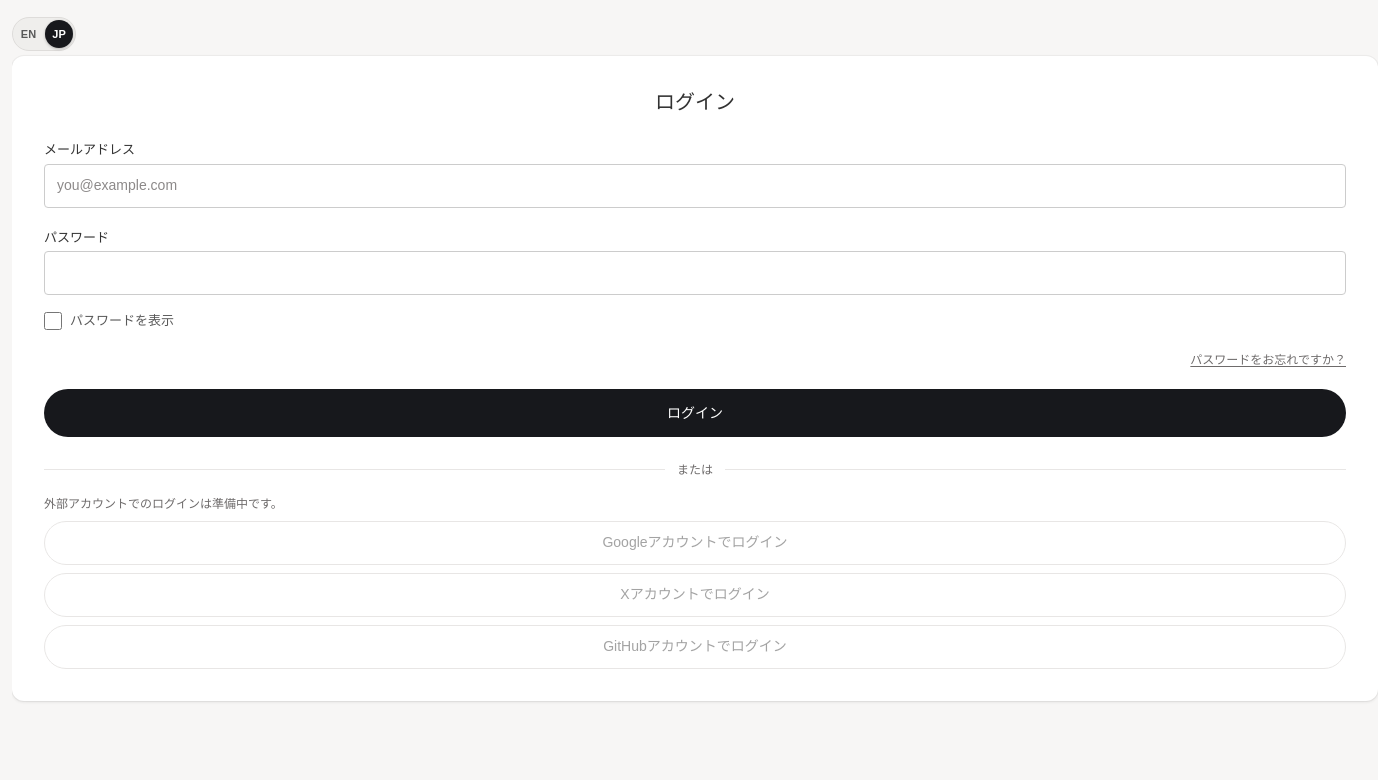
Scenario: does not navigate after missing token
The image size is (1378, 780).
Type "test@example.com" into the field labelled "メールアドレス" at (695,186), box [44, 164, 1346, 208]
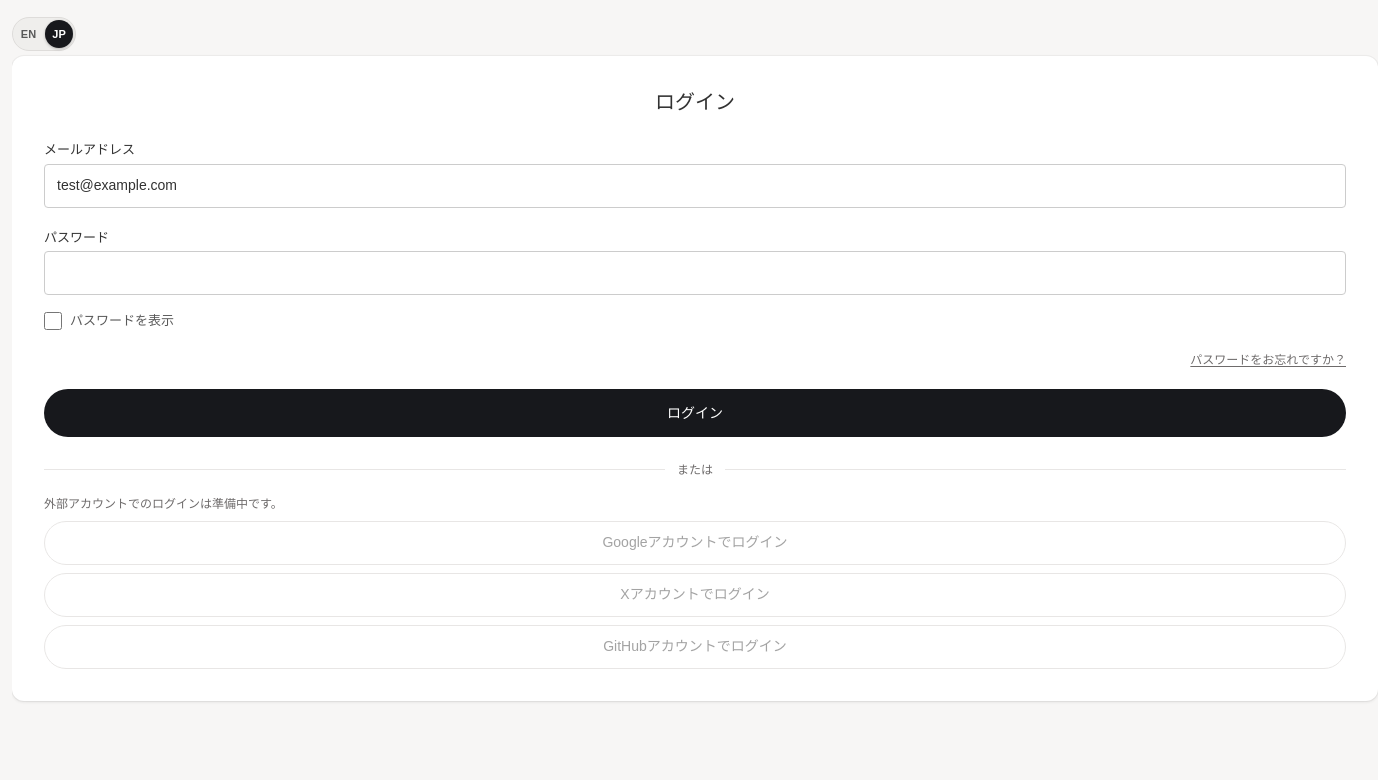
Type "Password1!" into the password field labelled "パスワード" at (695,273), box [44, 251, 1346, 295]
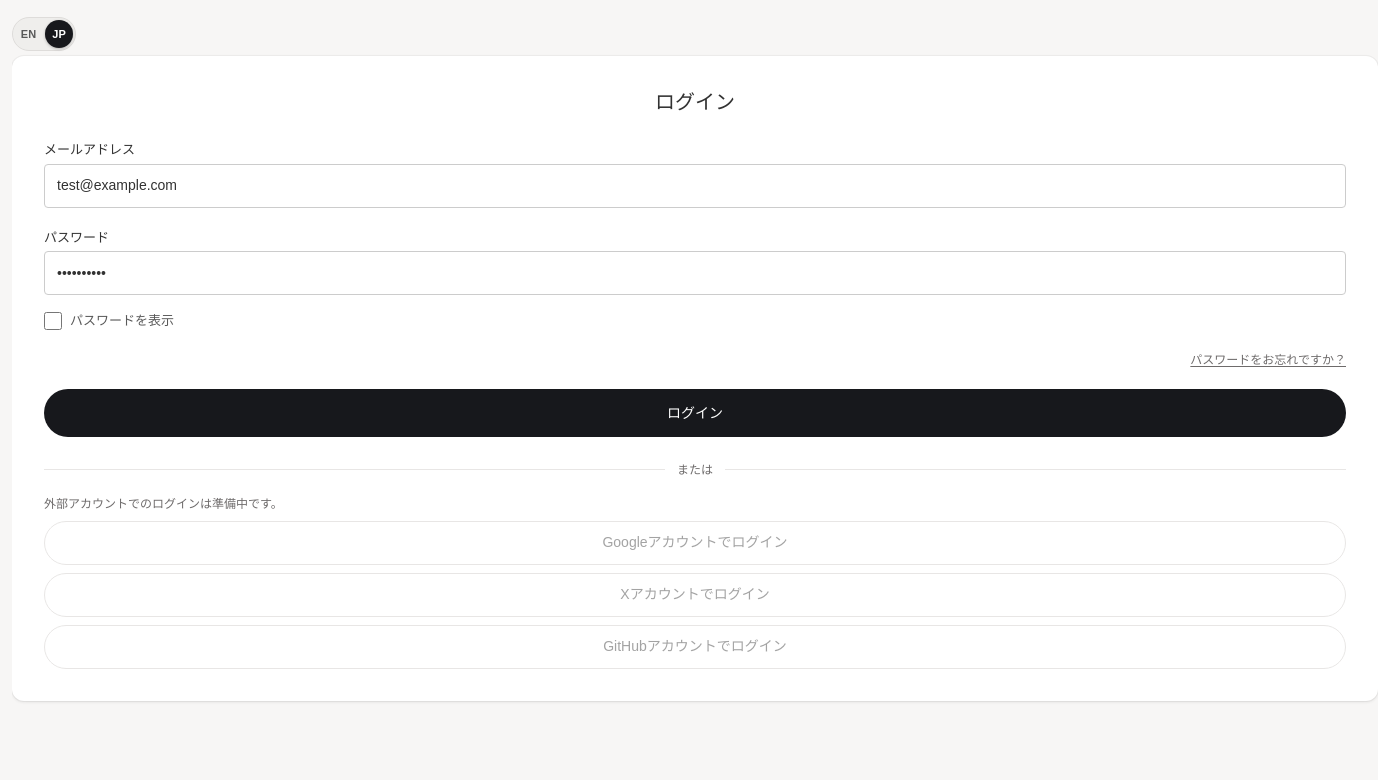
Click the button "ログイン" at (695,412), box [44, 388, 1346, 436]
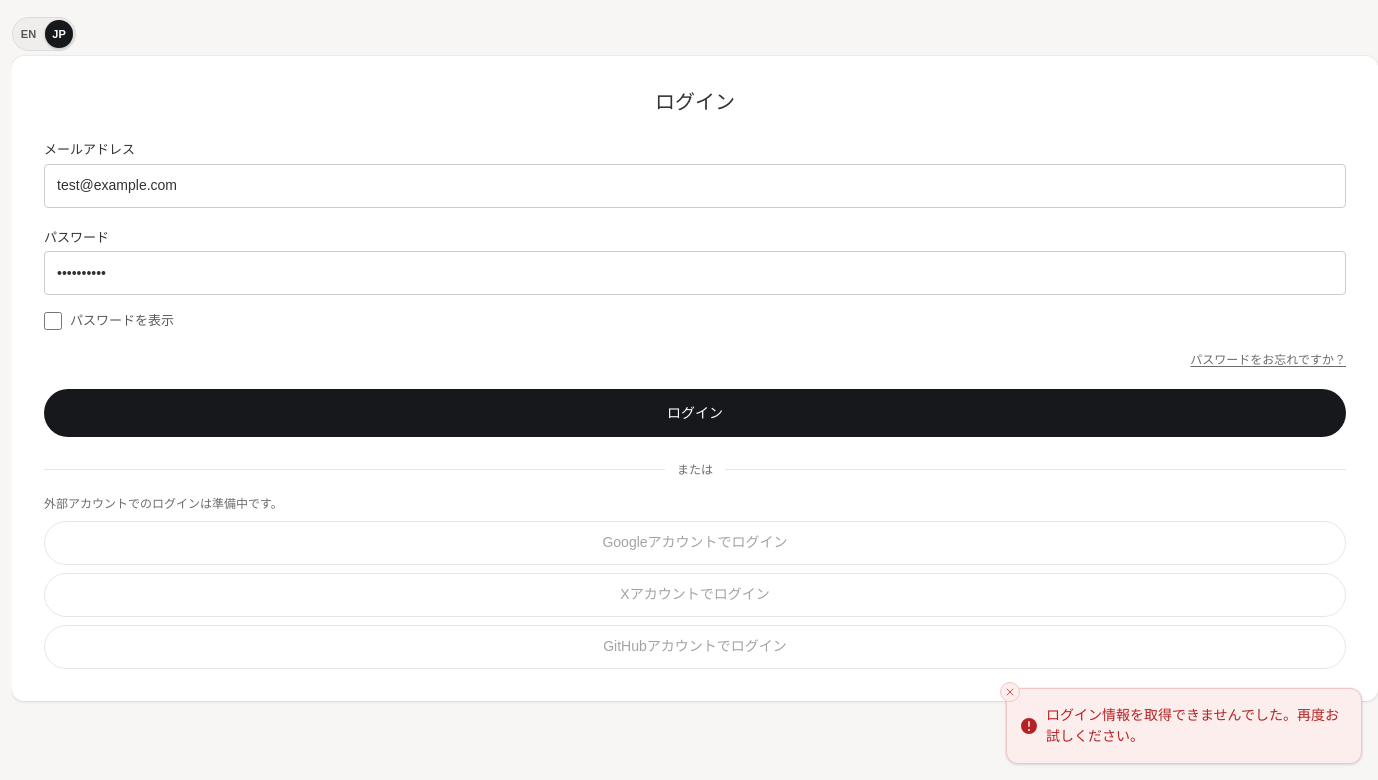
Expected: the text "ログイン情報を取得できませんでした。再度お試しください。" is shown, [1046, 705, 1345, 747]
